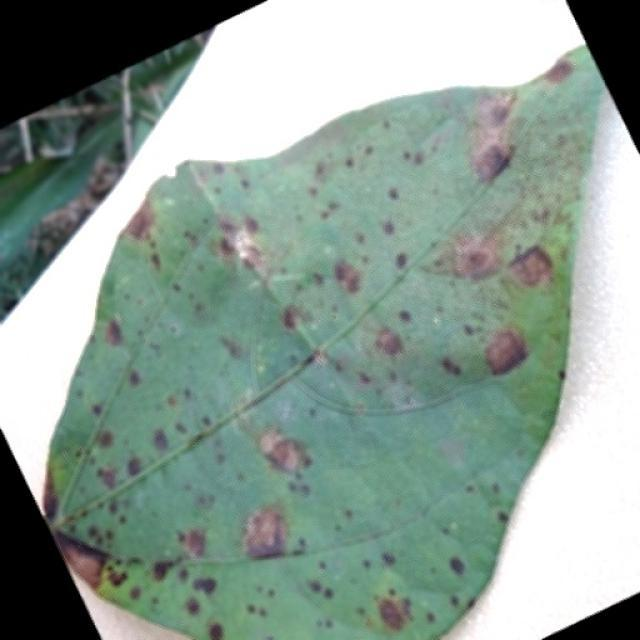leaves: (27, 0, 609, 640)
